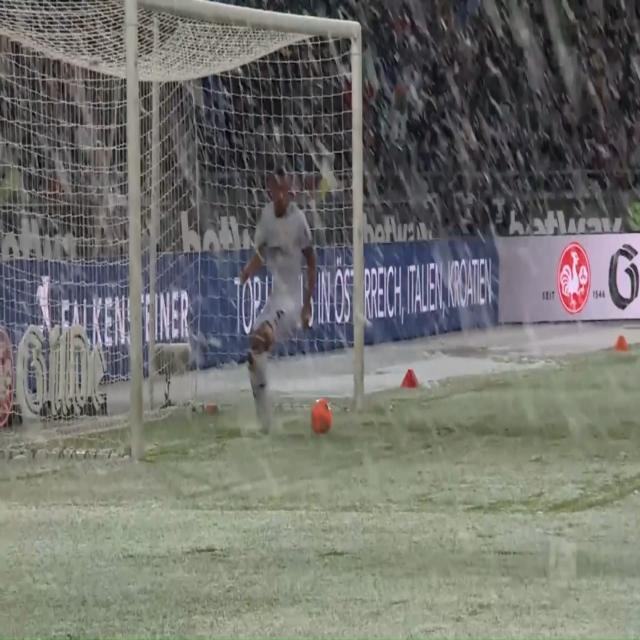ball: (311, 388, 348, 451)
player: (229, 153, 310, 450)
